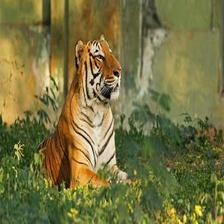tiger: (37, 35, 135, 192)
